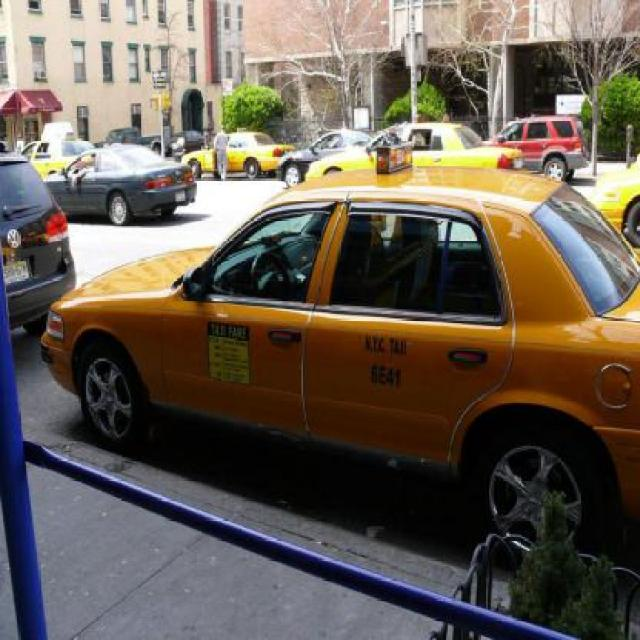License-Plates: (3, 258, 31, 283), (176, 192, 184, 200)
